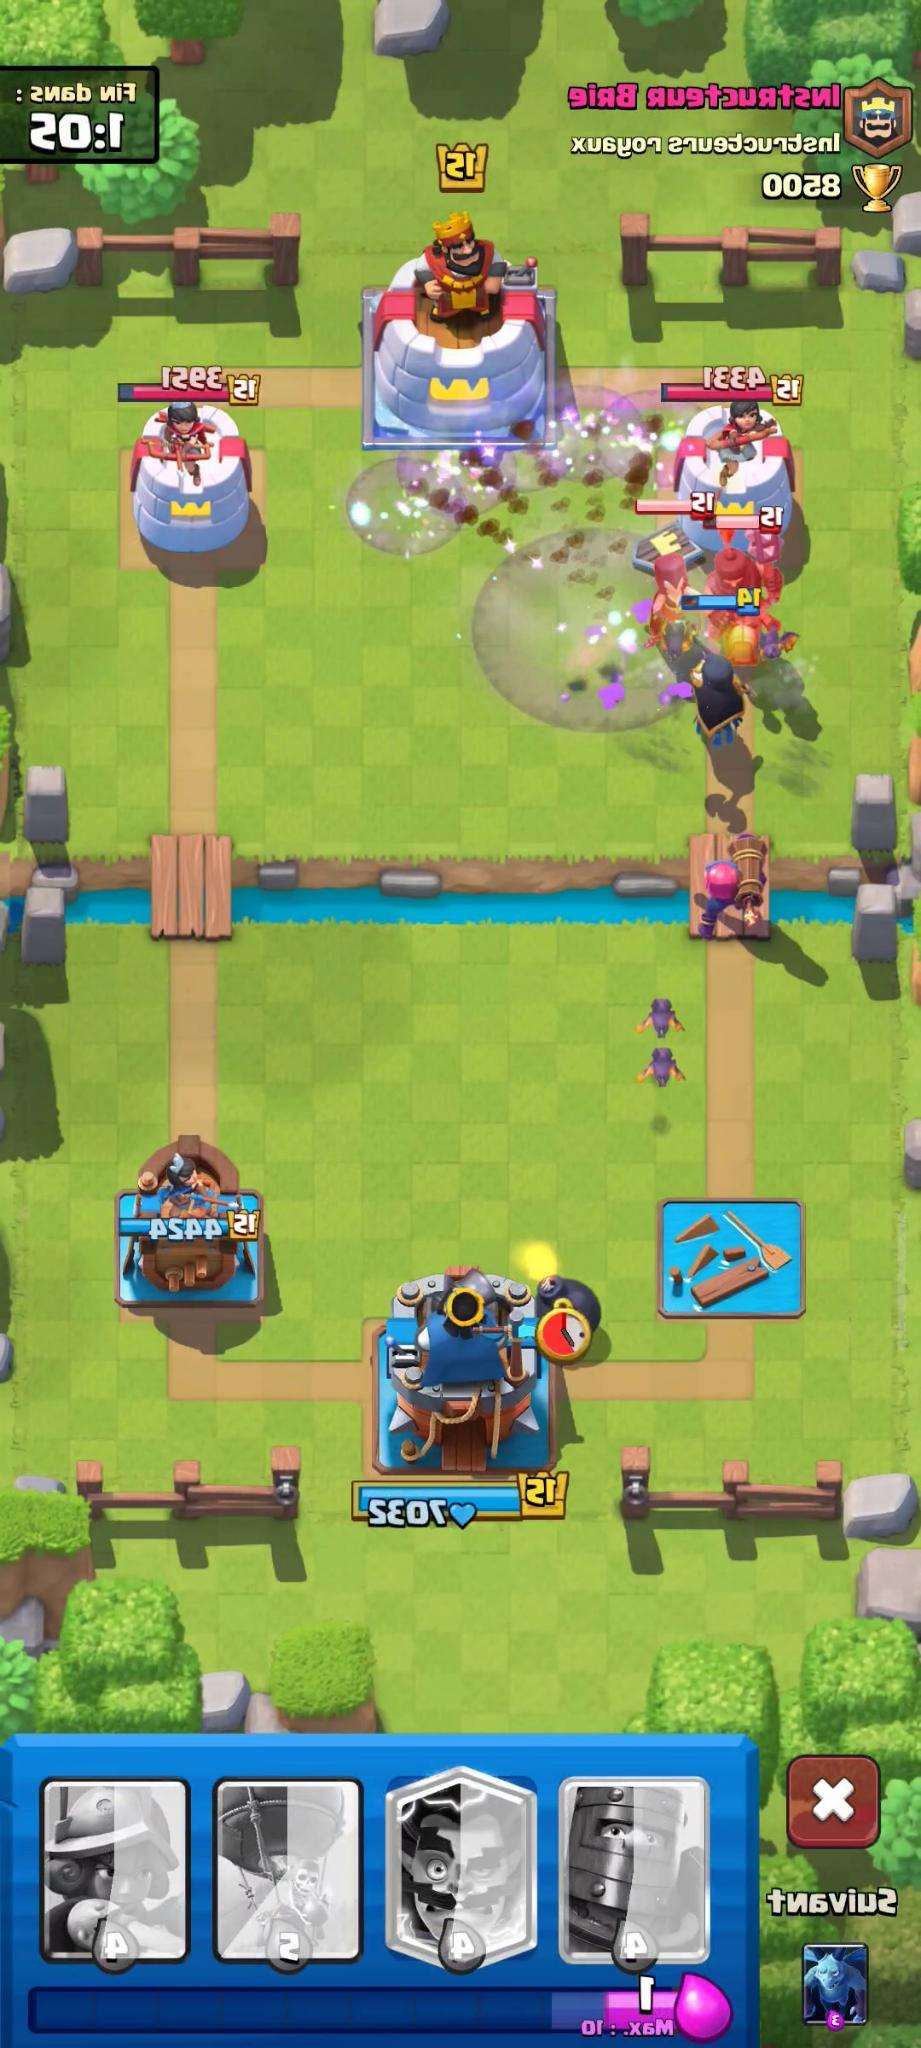enemy_dark_prince: (702, 498, 797, 683)
enemy_night_witch: (634, 484, 717, 663)
player_evo_firecracker: (681, 825, 784, 941)
player_night_witch: (676, 638, 759, 755)
